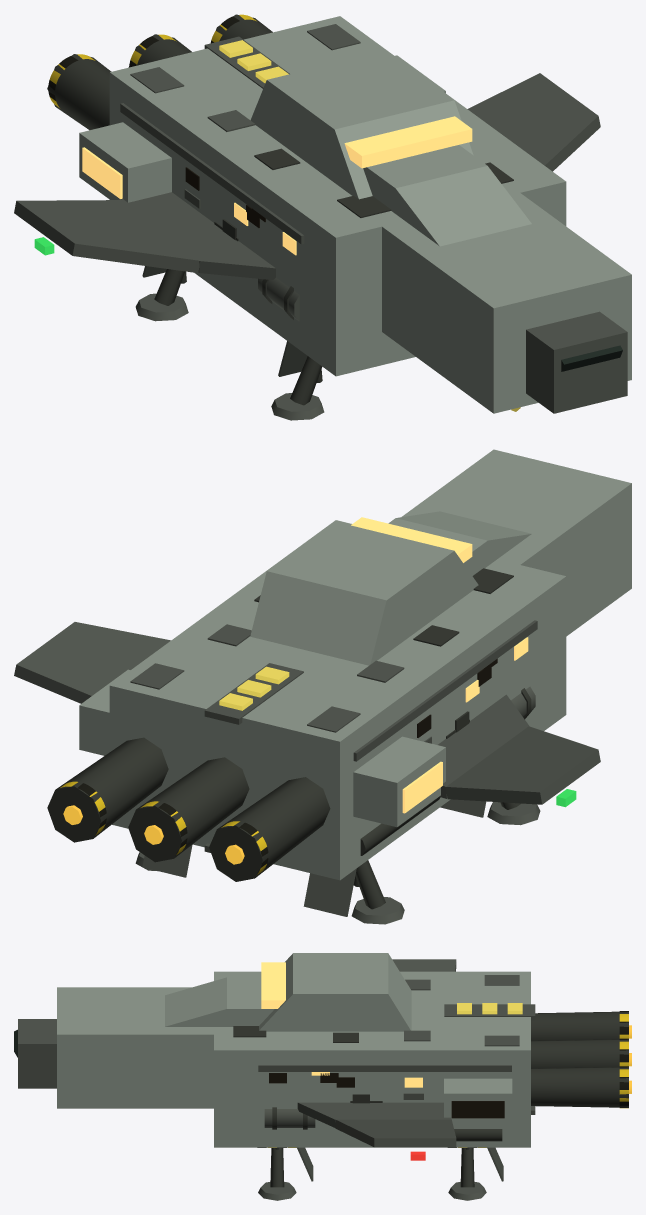
The model's file is liner-s.glb.
The picture shows the model from 3 angles, top to bottom: view 1: azimuth 30°, elevation 25°; view 2: azimuth 150°, elevation 25°; view 3: azimuth 270°, elevation 25°; orthographic projection. The views are drawn at different scales.
Visible parts, largest first — view 1: hullMain, hullNose, bridgeHouse, canopyFairing, hullNoseTip, wingOuterLeft, wingOuterRight, wingInnerLeft, engineHousing (×3), passengerPod0L, bridgeWindowBand, accentStripeL (+12 smaller); view 2: hullMain, bridgeHouse, engineHousing (×3), hullNose, wingOuterLeft, wingOuterRight, passengerPod0L, wingInnerLeft, canopyFairing, gearBayDoor (×2), accentStripeL, gearFoot (×2) (+9 smaller); view 3: hullMain, hullNose, bridgeHouse, engineHousing (×3), canopyFairing, wingOuterRight, hullNoseTip, wingInnerRight, passengerPod0R, accentStripeR, bridgeWindowBand, gearStrut (×2) (+9 smaller).
Part boxes in pixels (x1,y1,x2,y2): hullMain: (109,16,566,376); hullNose: (376,193,631,413); bridgeHouse: (250,50,473,199); canopyFairing: (363,145,531,246); hullNoseTip: (526,311,627,413); wingOuterLeft: (14,200,199,272); wingOuterRight: (467,73,600,171); wingInnerLeft: (117,192,275,279); engineHousing (×3): (47,14,272,130); passengerPod0L: (79,122,171,202); bridgeWindowBand: (344,116,472,168); accentStripeL: (120,103,304,244); hullMain: (109,520,566,880); bridgeHouse: (250,521,478,665); engineHousing (×3): (47,737,330,881); hullNose: (401,449,631,636); wingOuterLeft: (445,726,600,804); wingOuterRight: (14,622,170,703); passengerPod0L: (353,736,445,827); wingInnerLeft: (438,694,529,798); canopyFairing: (388,511,531,575); gearBayDoor (×2): (142,844,356,916); accentStripeL: (353,620,537,761); gearFoot (×2): (351,802,540,924); hullMain: (214,971,530,1147); hullNose: (57,987,224,1108); bridgeHouse: (259,953,411,1031); engineHousing (×3): (531,1011,628,1107); canopyFairing: (165,977,274,1026); wingOuterRight: (335,1119,456,1147); hullNoseTip: (18,1019,56,1088); wingInnerRight: (297,1102,451,1127); passengerPod0R: (444,1078,512,1124); accentStripeR: (258,1065,511,1071); bridgeWindowBand: (261,962,285,1008); gearStrut (×2): (270,1148,474,1187).
Size of the model in its own units: 4.61 by 2.15 by 6.63.
